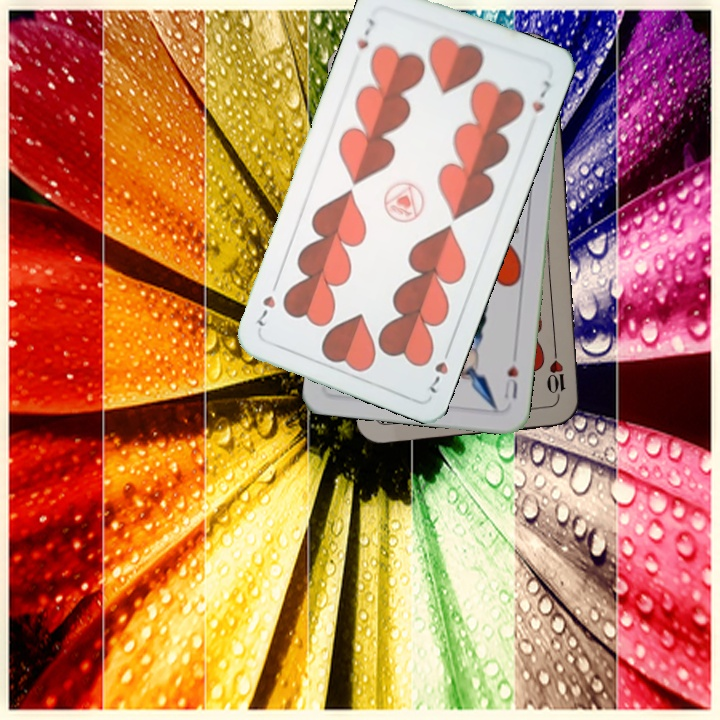H10: (544, 344, 568, 403)
H7: (424, 341, 454, 396), (352, 15, 378, 52)
HU: (500, 361, 521, 402)
